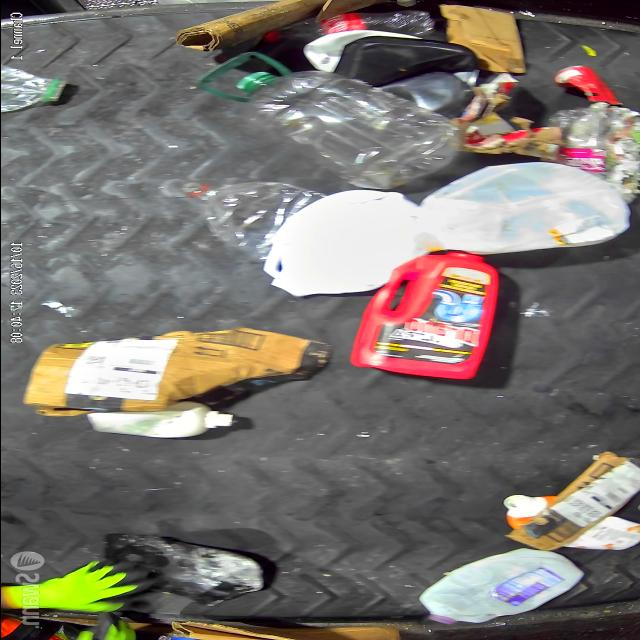milk_jug: (255, 190, 421, 302), (418, 164, 622, 250)
non_white_jug: (356, 246, 498, 380)
plastic_bottle: (233, 62, 450, 186)
